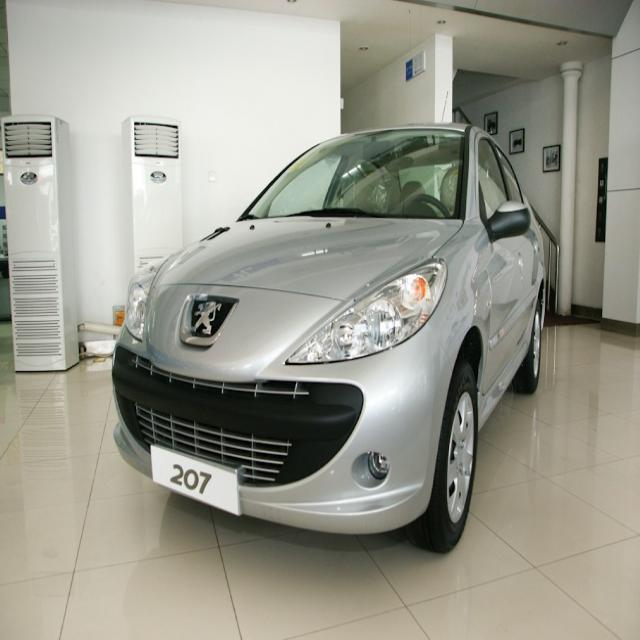front_bumper: (107, 277, 437, 541)
front_glass: (243, 123, 474, 224)
front_left_side_light: (285, 254, 449, 371)
front_left_side_mirror: (476, 138, 524, 403), (486, 198, 530, 242)
front_right_side_light: (121, 273, 155, 345)
wheel: (426, 362, 481, 544), (524, 300, 544, 390)
